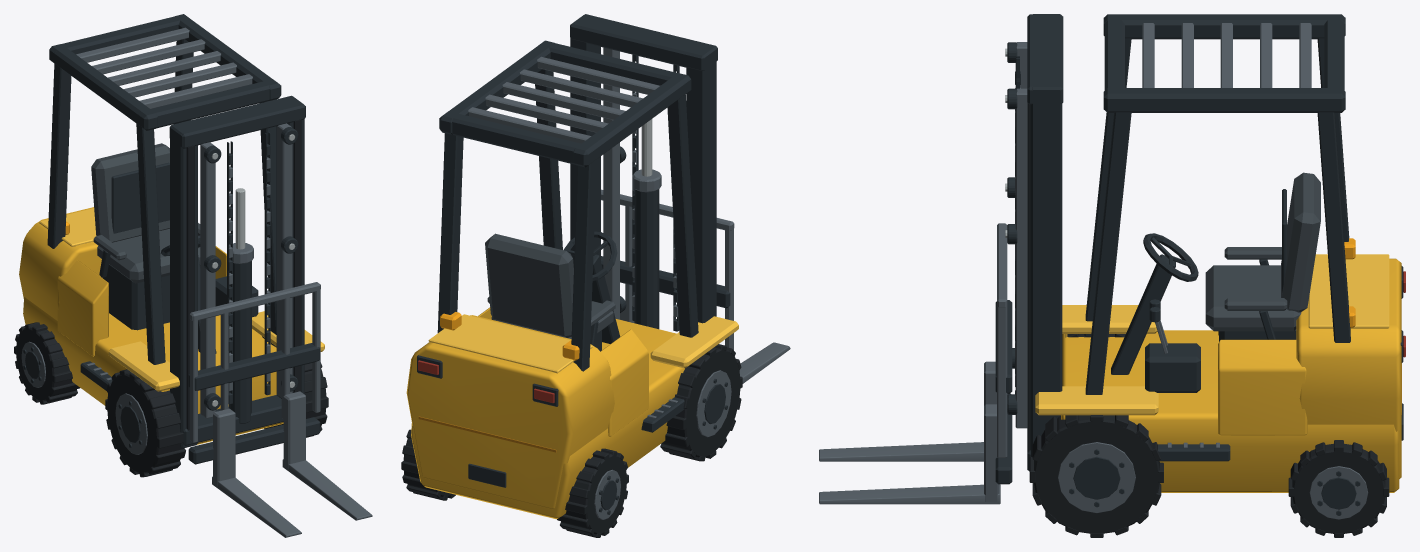
Rendered from forklift.glb.
3 renders of one model, left to right at view 1: azimuth 30°, elevation 25°; view 2: azimuth 150°, elevation 25°; view 3: azimuth 270°, elevation 25°, orthographic. The views are drawn at different scales.
Parts seen in each view (by area): view 1: forklift__material_00, forklift__material_01, forklift__material_06, forklift__material_04, forklift__material_09, forklift__material_02, forklift__material_03; view 2: forklift__material_00, forklift__material_06, forklift__material_01, forklift__material_04, forklift__material_09, forklift__material_02, forklift__material_03, forklift__material_05, forklift__material_07; view 3: forklift__material_00, forklift__material_06, forklift__material_01, forklift__material_04, forklift__material_09, forklift__material_02.
Boxes of the visible parts, x1,y1,x2,y2 form: forklift__material_00: (23, 14, 320, 464); forklift__material_01: (21, 27, 372, 537); forklift__material_06: (19, 207, 283, 444); forklift__material_04: (14, 119, 328, 477); forklift__material_09: (91, 143, 200, 283); forklift__material_02: (39, 208, 324, 391); forklift__material_03: (211, 134, 295, 406); forklift__material_00: (417, 14, 730, 514); forklift__material_06: (406, 307, 684, 519); forklift__material_01: (468, 47, 790, 519); forklift__material_04: (401, 344, 742, 537); forklift__material_09: (485, 233, 615, 338); forklift__material_02: (428, 314, 738, 373); forklift__material_03: (641, 119, 652, 176); forklift__material_05: (440, 312, 579, 360); forklift__material_07: (418, 416, 556, 452); forklift__material_00: (995, 14, 1403, 515); forklift__material_06: (1061, 258, 1401, 492); forklift__material_01: (819, 23, 1368, 519); forklift__material_04: (1027, 103, 1389, 537); forklift__material_09: (1205, 172, 1320, 331); forklift__material_02: (1035, 254, 1389, 415).
Size of the model in its own units: 1.11 by 2.15 by 2.62.
